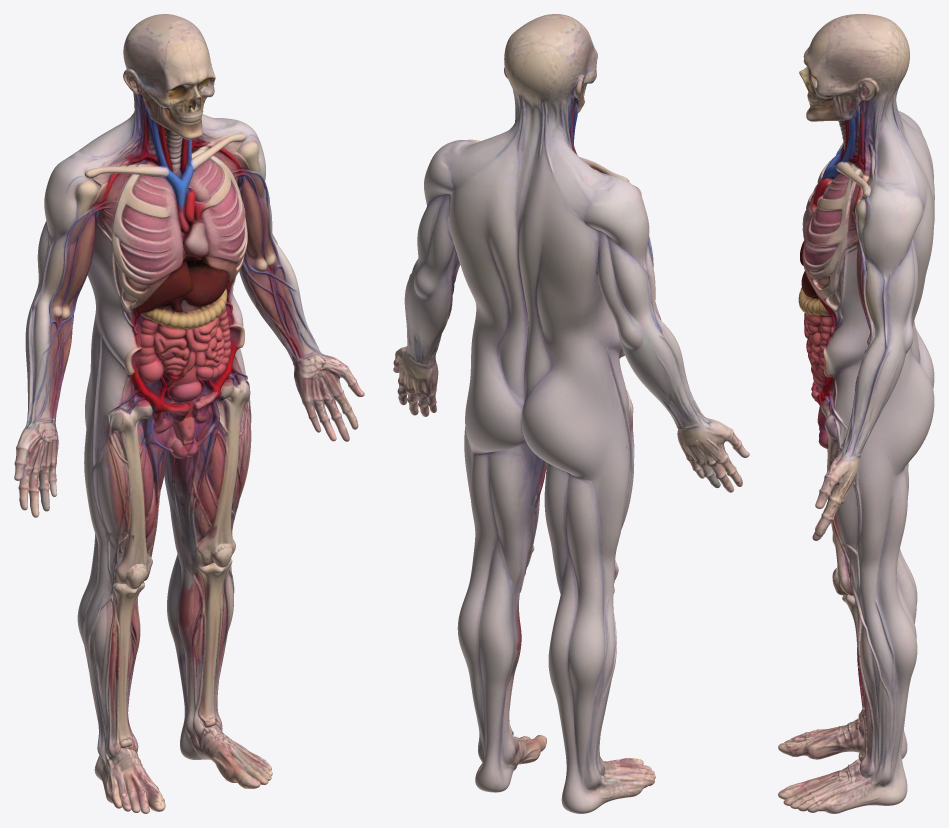
The model's file is body_surface.glb.
The picture shows the model from 3 angles, left to right: view 1: azimuth 30°, elevation 25°; view 2: azimuth 150°, elevation 25°; view 3: azimuth 270°, elevation 25°; orthographic projection.
Parts seen in each view (by area): view 1: body_surface; view 2: body_surface; view 3: body_surface.
Boxes of the visible parts, x1=… form: body_surface: x1=14, y1=14, x2=364, y2=813; body_surface: x1=393, y1=14, x2=749, y2=813; body_surface: x1=778, y1=14, x2=934, y2=813.
Size of the model in its own units: 0.57 by 1.18 by 0.2197.
Materials: 1 (1 with a texture image).
